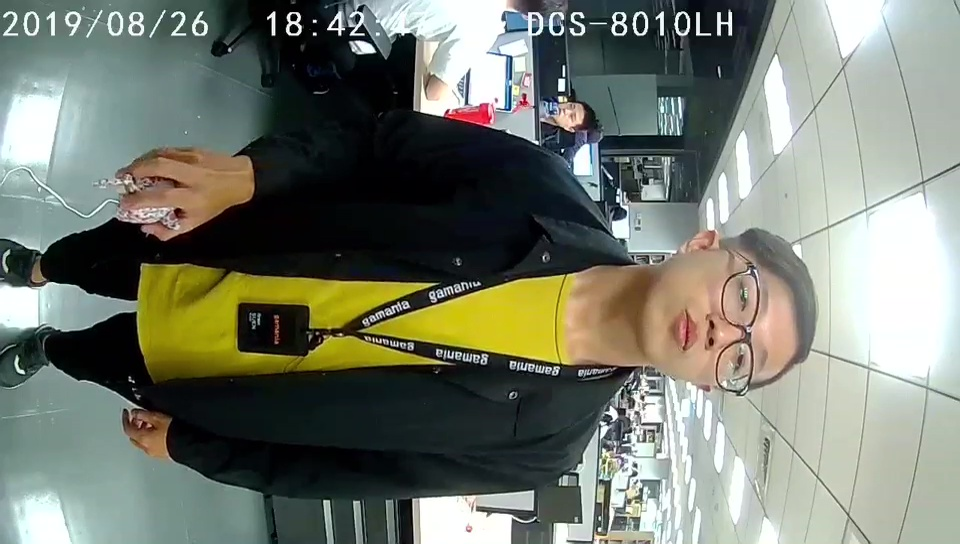pig: (108, 175, 182, 226)
